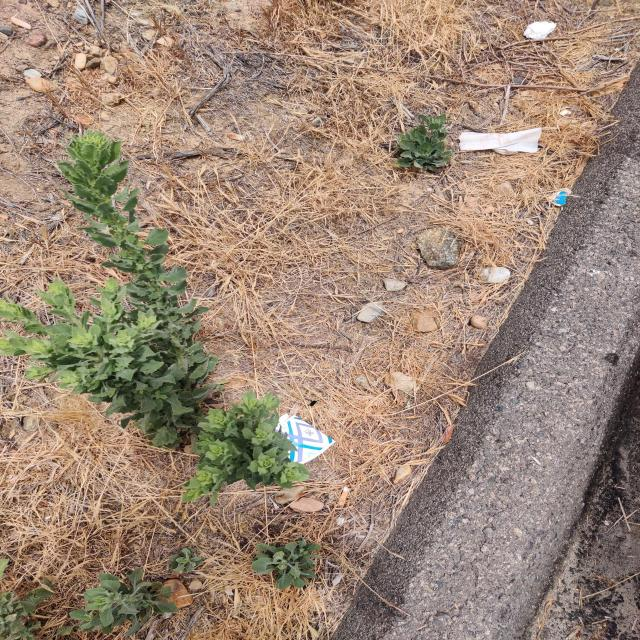litter: (274, 414, 336, 465), (459, 128, 541, 153), (523, 22, 557, 39)
